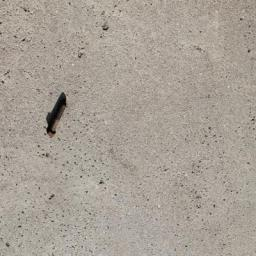FOD: (43, 91, 72, 143)
